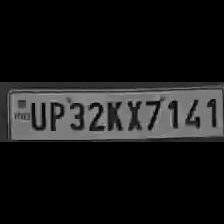1: (162, 96, 180, 130), (202, 96, 220, 128)
2: (85, 97, 105, 130)
3: (66, 97, 86, 130)
4: (180, 95, 202, 129)
7: (142, 96, 162, 132)
K: (104, 97, 124, 131)
P: (46, 98, 66, 132)
U: (27, 97, 46, 130)
X: (123, 97, 143, 131)
